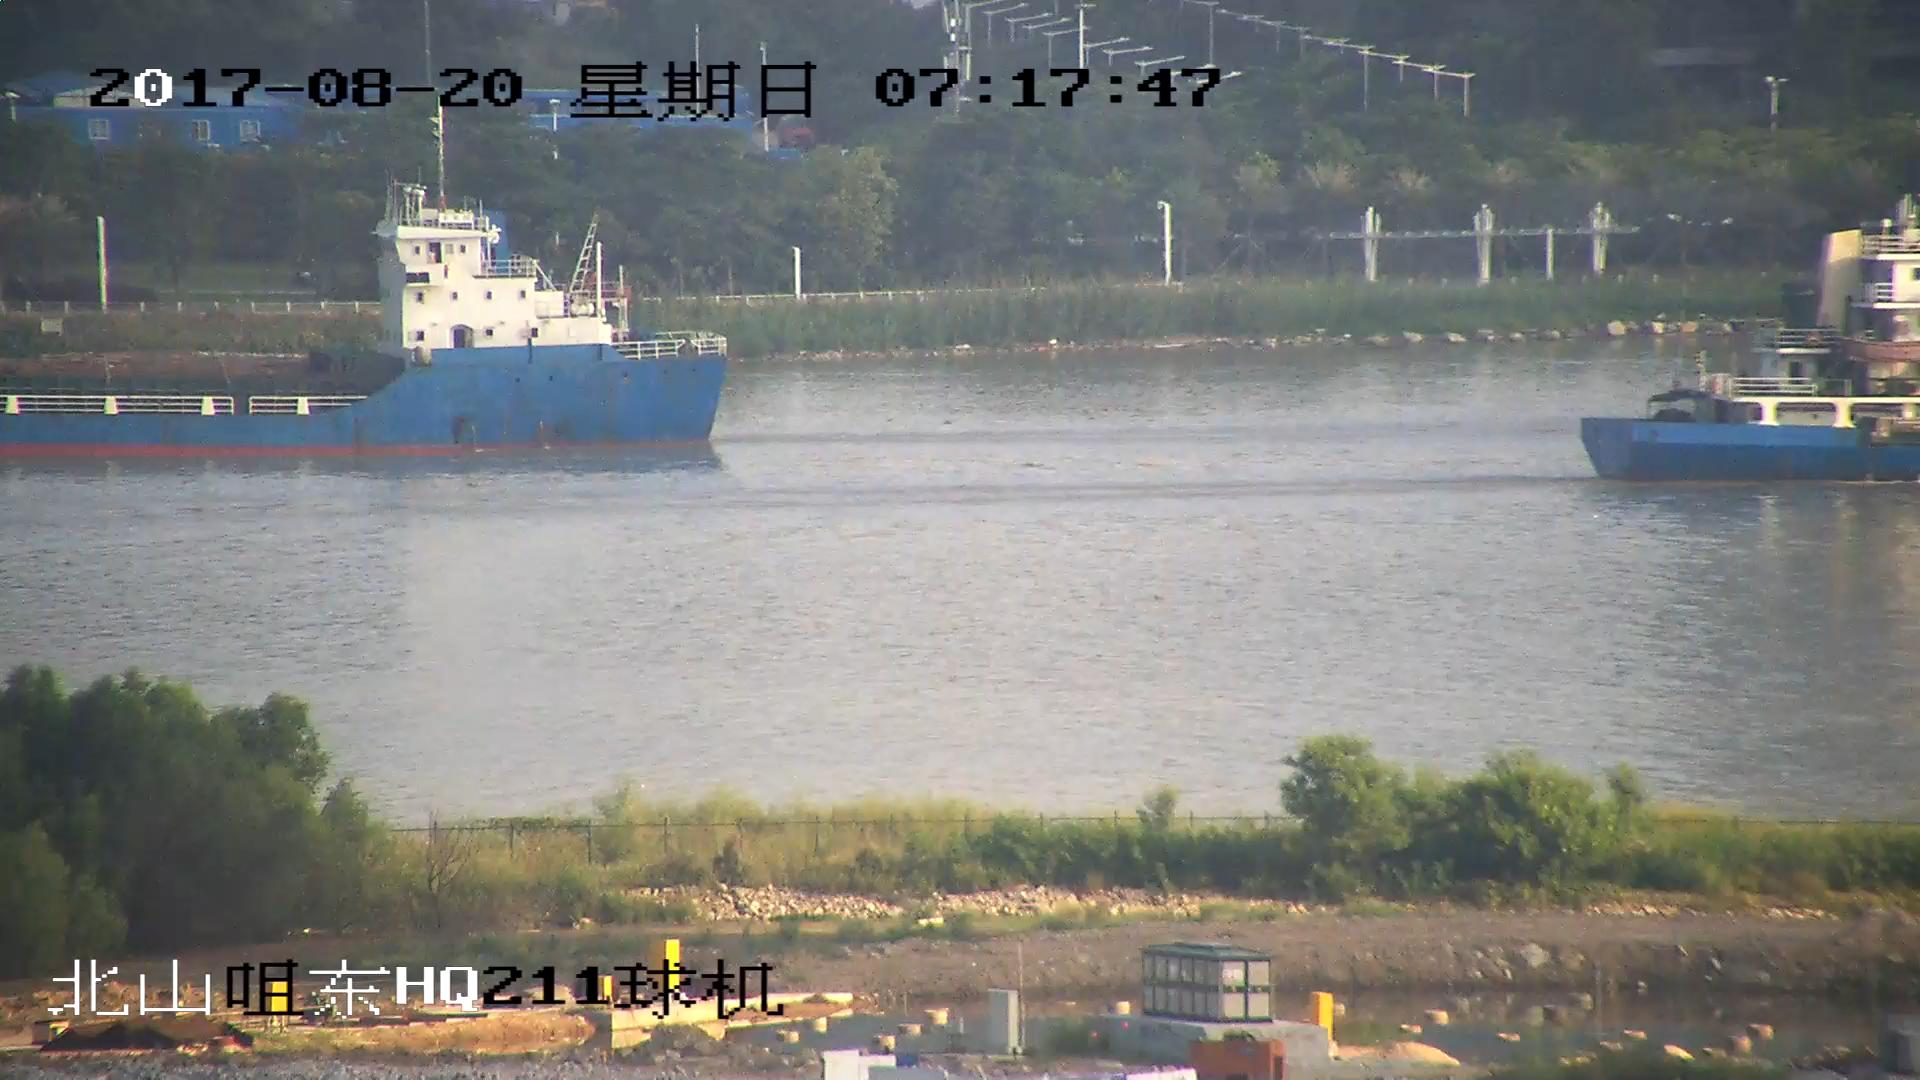general cargo ship: (1, 192, 725, 464), (1589, 214, 1920, 482)
